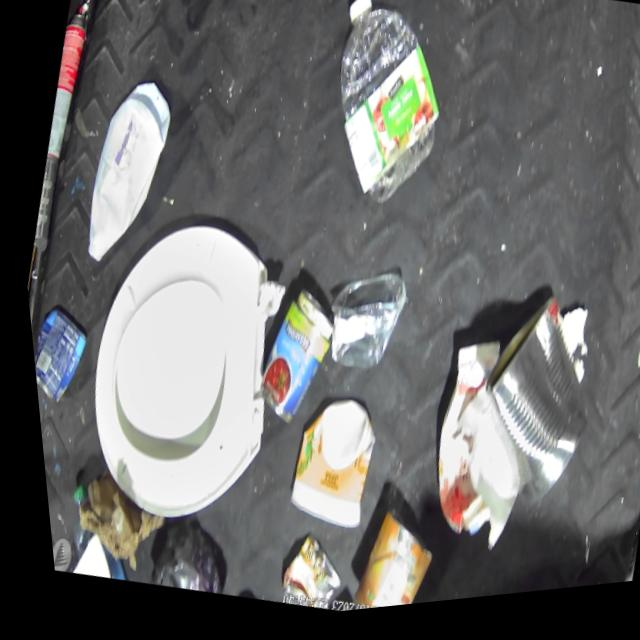can: (440, 297, 611, 533), (235, 283, 342, 438), (329, 506, 433, 616), (31, 2, 100, 162), (23, 299, 91, 410), (260, 532, 339, 621), (20, 154, 63, 250)
milk_jug: (61, 69, 187, 279)
plastic_bottle: (297, 0, 470, 228), (631, 96, 640, 248)
